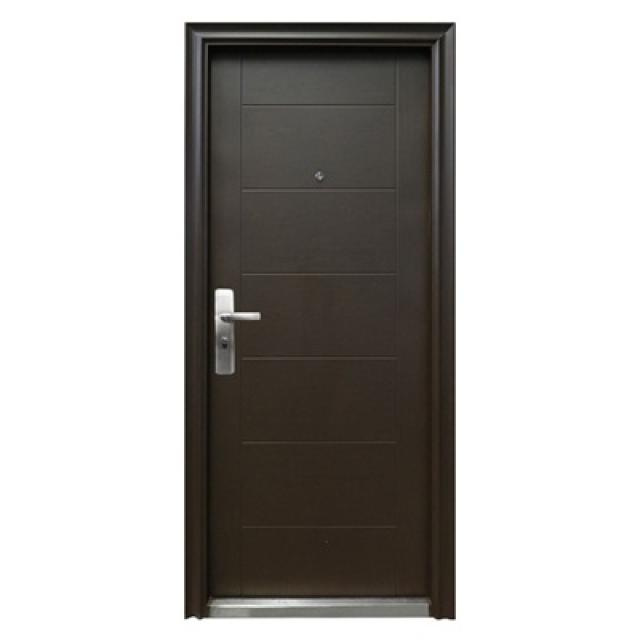door: (187, 24, 456, 619)
